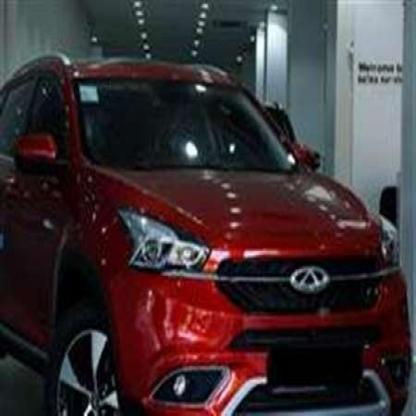Car: (0, 54, 398, 416)
